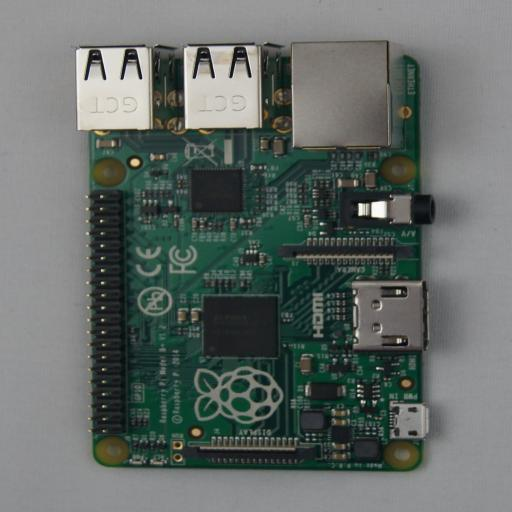Raspberry Pi 1 B-: (76, 40, 446, 472)
